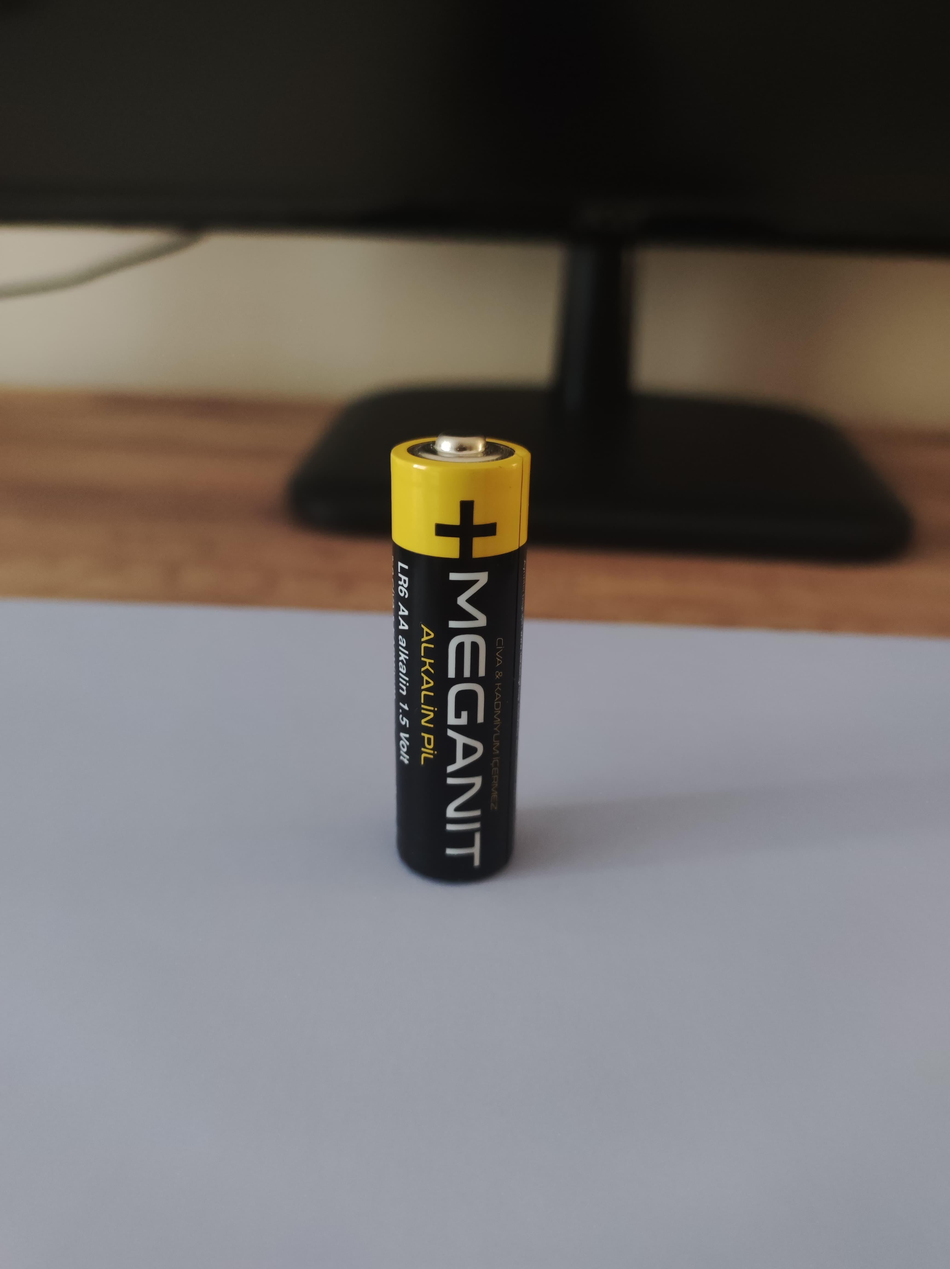AA: (388, 429, 536, 887)
